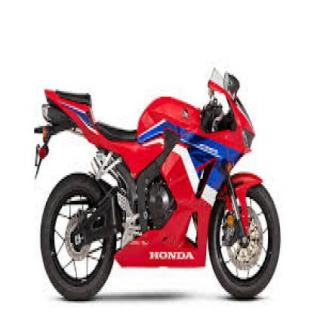Motocicleta: (28, 61, 280, 300)
